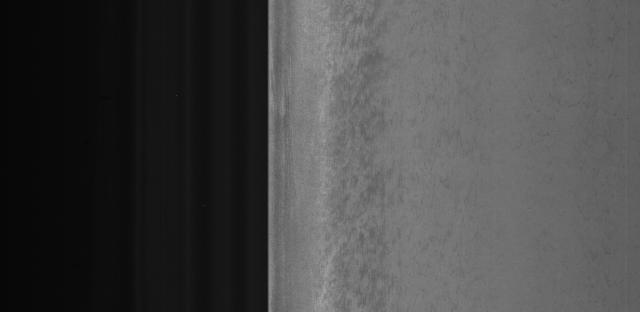silk_spot: (312, 25, 410, 289)
